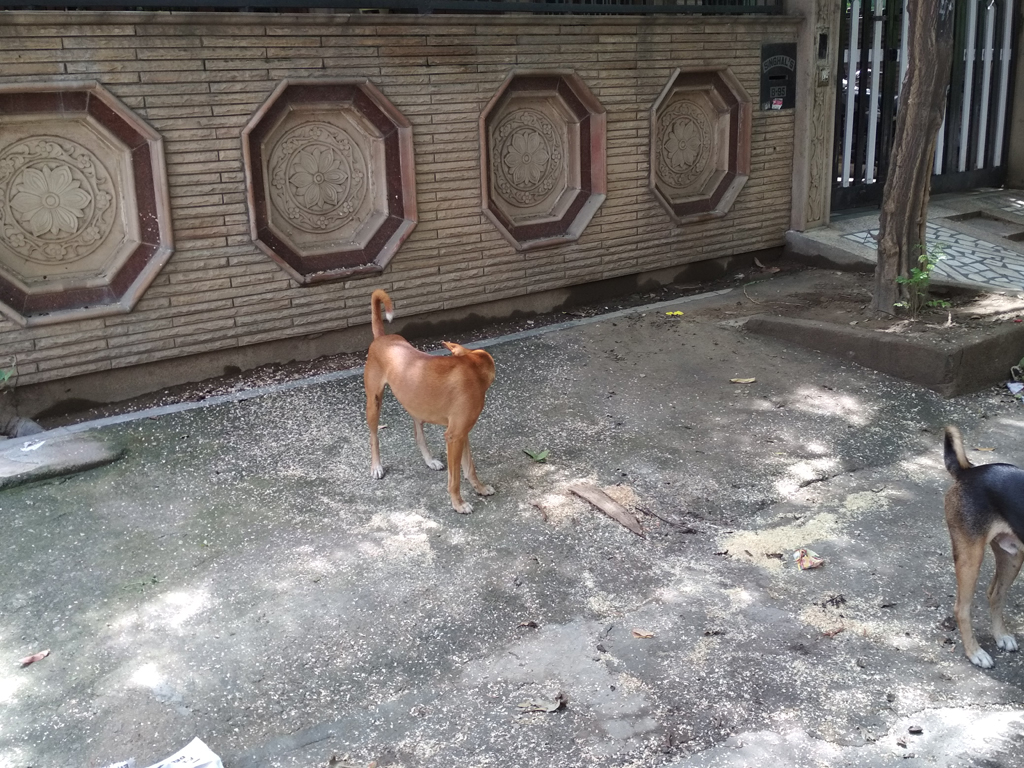dog: (363, 287, 495, 515), (943, 421, 1024, 671)
